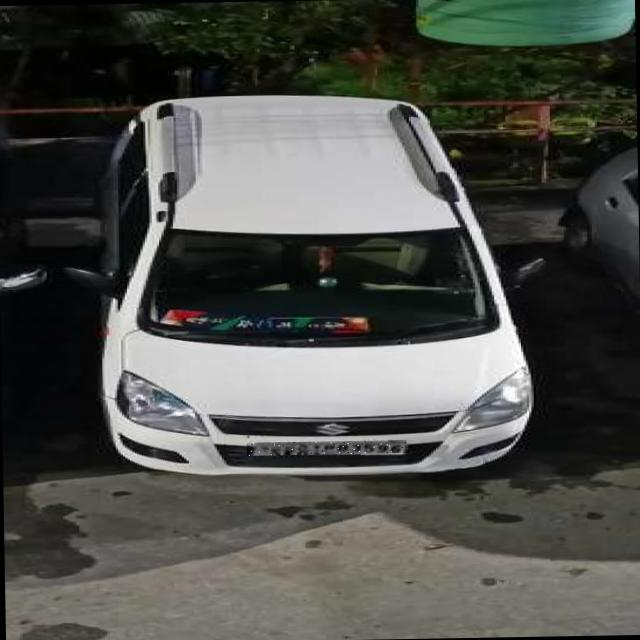Plate: (248, 441, 408, 457)
